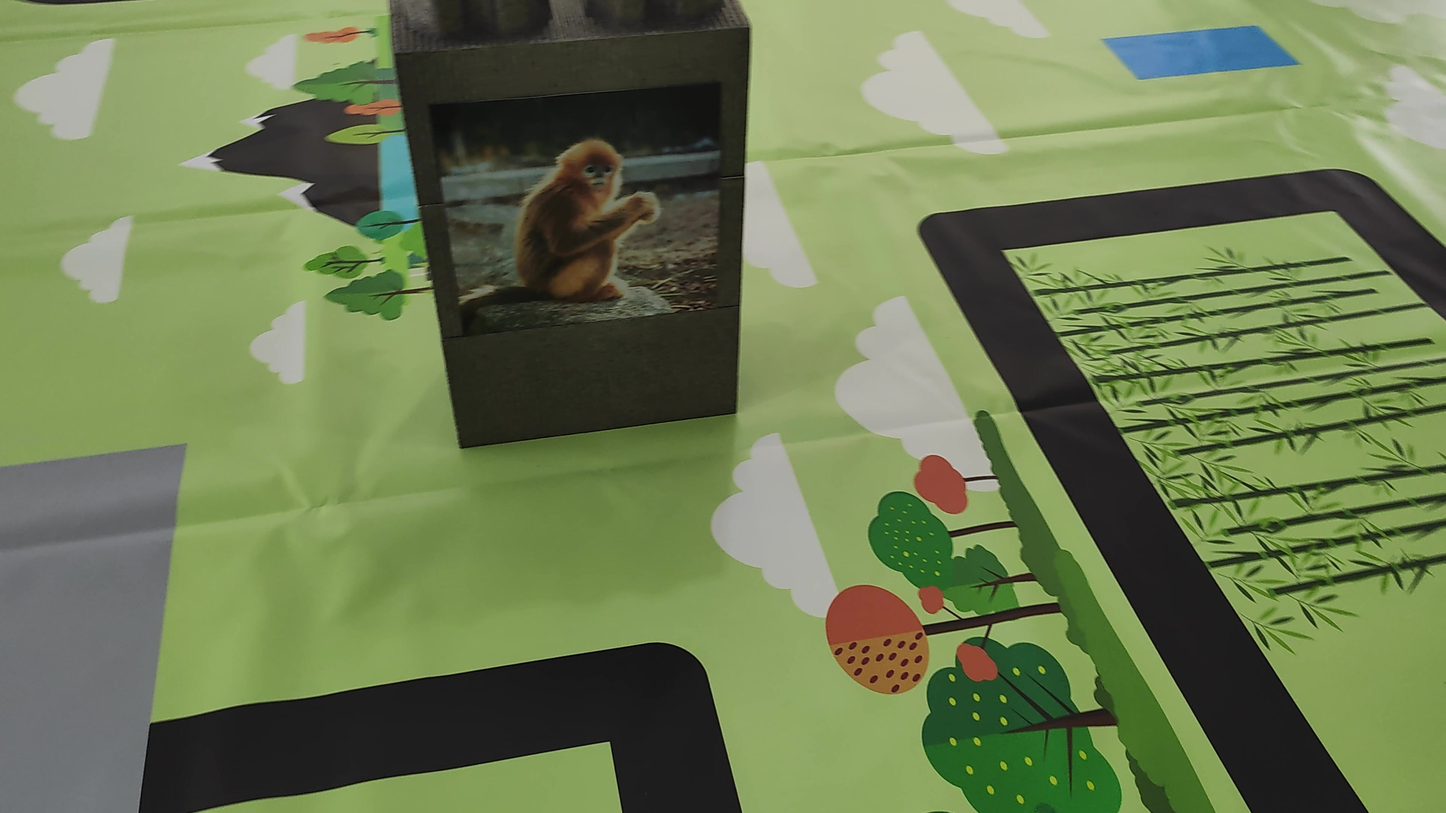monkey: (460, 106, 731, 320)
